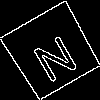N: (26, 25, 81, 84)
